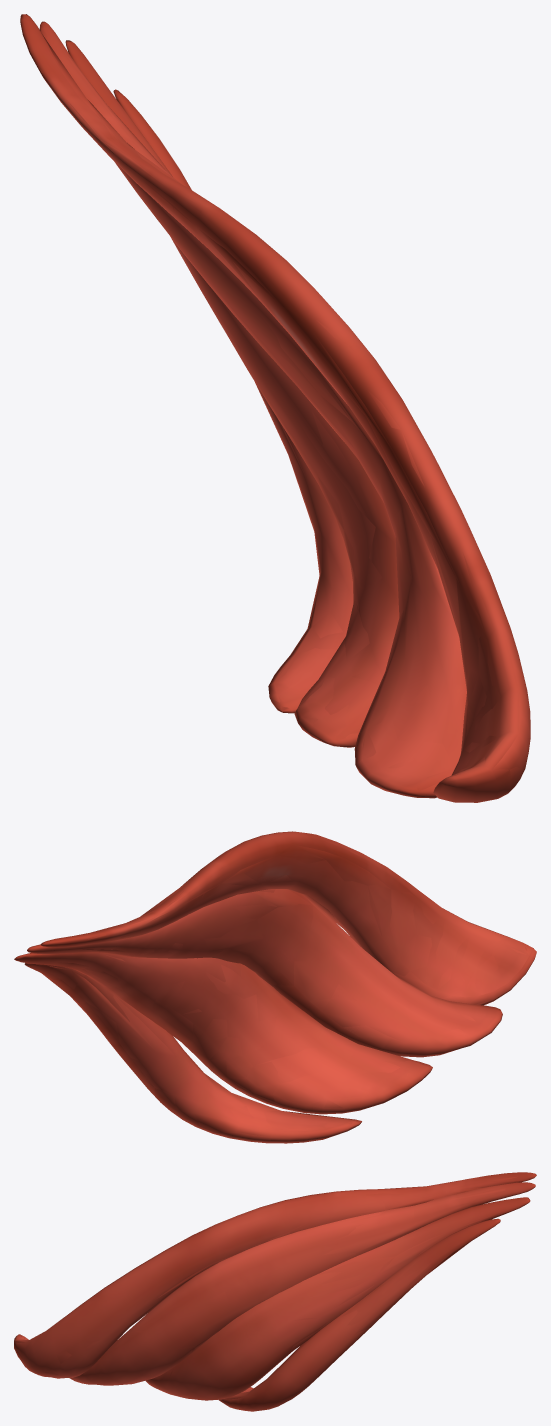
File: L Serratus Ventralis cervicis.fbx
3 renders of one model, top to bottom at view 1: azimuth 30°, elevation 25°; view 2: azimuth 150°, elevation 25°; view 3: azimuth 270°, elevation 25°, orthographic. The views are drawn at different scales.
Parts seen in each view (by area): view 1: L Serratus Ventralis cervicis, L Serratus Ventralis cervicis low; view 2: L Serratus Ventralis cervicis, L Serratus Ventralis cervicis low; view 3: L Serratus Ventralis cervicis, L Serratus Ventralis cervicis low.
Part boxes in pixels (<box>): L Serratus Ventralis cervicis: <box>20,14,530,802</box>; L Serratus Ventralis cervicis low: <box>30,23,530,794</box>; L Serratus Ventralis cervicis: <box>14,831,536,1143</box>; L Serratus Ventralis cervicis low: <box>33,832,528,1142</box>; L Serratus Ventralis cervicis: <box>14,1172,536,1411</box>; L Serratus Ventralis cervicis low: <box>14,1176,531,1411</box>.
Bounding box in the file's own units: 4.37 × 9.29 × 19.12.
